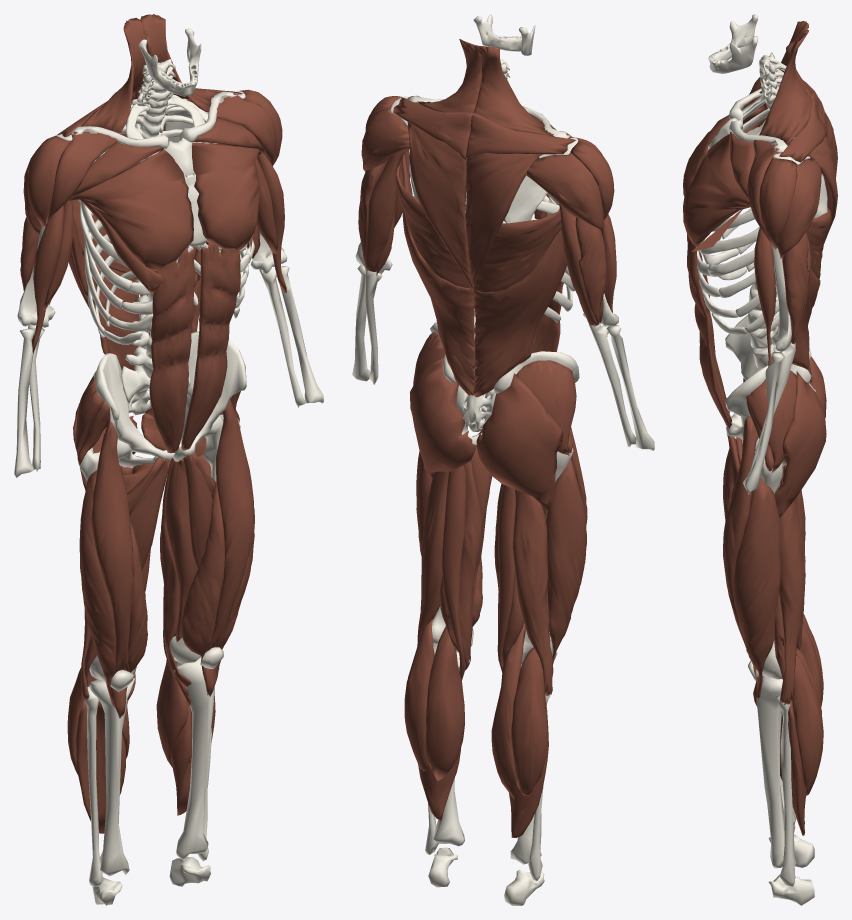
The model's file is anatomy.glb.
3 views of the same model, side by side, from view 1: azimuth 30°, elevation 25°; view 2: azimuth 150°, elevation 25°; view 3: azimuth 270°, elevation 25° (orthographic). The views are drawn at different scales.
Parts seen in each view (by area): view 1: Sternocostal head of pectoralis major muscle.007, Rectus abdominis muscle.001, Rectus femoris muscle.001, Rectus abdominis muscle, Rectus femoris muscle, Sternocostal head of pectoralis major muscle.006, Tibia.002, Vastus medialis muscle, Vastus lateralis muscle.003, Tibia.003, Latissimus dorsi muscle.005, Adductor magnus.002 (+46 smaller); view 2: Latissimus dorsi muscle.005, Gluteus maximus muscle.005, Latissimus dorsi muscle.002, Descending part of trapezius muscle, Vastus lateralis muscle.003, Long head of biceps femoris.003, Descending part of trapezius muscle.003, Gluteus maximus muscle.002, Medial head of gastrocnemius, Lateral head of gastrocnemius.003, Scapular spinal part of deltoid muscle.003, Semimembranosus muscle (+37 smaller); view 3: Vastus lateralis muscle, Sternocostal head of pectoralis major muscle.006, Gluteus maximus muscle.002, Long head of biceps femoris, Tibia.002, Rectus femoris muscle, Lateral head of gastrocnemius, Ascending part of trapezius muscle.002, Acromial part of deltoid muscle, Scapular spinal part of deltoid muscle, Rectus abdominis muscle, Gluteus medius muscle.002 (+38 smaller).
Boxes of the visible parts, left/top/right/bottom form: Sternocostal head of pectoralis major muscle.007: left=68, top=149, right=193, bottom=271; Rectus abdominis muscle.001: left=149, top=247, right=194, bottom=453; Rectus femoris muscle.001: left=91, top=421, right=133, bottom=718; Rectus abdominis muscle: left=181, top=241, right=240, bottom=450; Rectus femoris muscle: left=201, top=399, right=254, bottom=696; Sternocostal head of pectoralis major muscle.006: left=192, top=142, right=261, bottom=251; Tibia.002: left=173, top=657, right=214, bottom=860; Vastus medialis muscle: left=181, top=481, right=224, bottom=680; Vastus lateralis muscle.003: left=79, top=470, right=115, bottom=707; Tibia.003: left=89, top=678, right=134, bottom=876; Latissimus dorsi muscle.005: left=68, top=199, right=139, bottom=370; Adductor magnus.002: left=165, top=454, right=211, bottom=641; Latissimus dorsi muscle.005: left=473, top=208, right=566, bottom=397; Gluteus maximus muscle.005: left=476, top=373, right=563, bottom=510; Latissimus dorsi muscle.002: left=396, top=153, right=475, bottom=395; Descending part of trapezius muscle: left=407, top=122, right=473, bottom=290; Vastus lateralis muscle.003: left=546, top=459, right=586, bottom=660; Long head of biceps femoris.003: left=512, top=489, right=553, bottom=695; Descending part of trapezius muscle.003: left=465, top=152, right=542, bottom=290; Gluteus maximus muscle.002: left=410, top=357, right=476, bottom=480; Medial head of gastrocnemius: left=425, top=626, right=464, bottom=780; Lateral head of gastrocnemius.003: left=511, top=647, right=548, bottom=796; Scapular spinal part of deltoid muscle.003: left=526, top=153, right=603, bottom=233; Semimembranosus muscle: left=440, top=459, right=481, bottom=670; Vastus lateralis muscle: left=733, top=476, right=780, bottom=698; Sternocostal head of pectoralis major muscle.006: left=683, top=134, right=750, bottom=246; Gluteus maximus muscle.002: left=774, top=371, right=826, bottom=517; Long head of biceps femoris: left=779, top=498, right=805, bottom=704; Tibia.002: left=756, top=676, right=796, bottom=868; Rectus femoris muscle: left=723, top=417, right=758, bottom=706; Lateral head of gastrocnemius: left=792, top=654, right=823, bottom=795; Ascending part of trapezius muscle.002: left=759, top=30, right=811, bottom=144; Acromial part of deltoid muscle: left=759, top=157, right=797, bottom=249; Scapular spinal part of deltoid muscle: left=777, top=158, right=821, bottom=258; Rectus abdominis muscle: left=687, top=236, right=731, bottom=428; Gluteus medius muscle.002: left=746, top=370, right=796, bottom=472.
Bounding box in the file's own units: 0.5773 × 1.57 × 0.2562.
